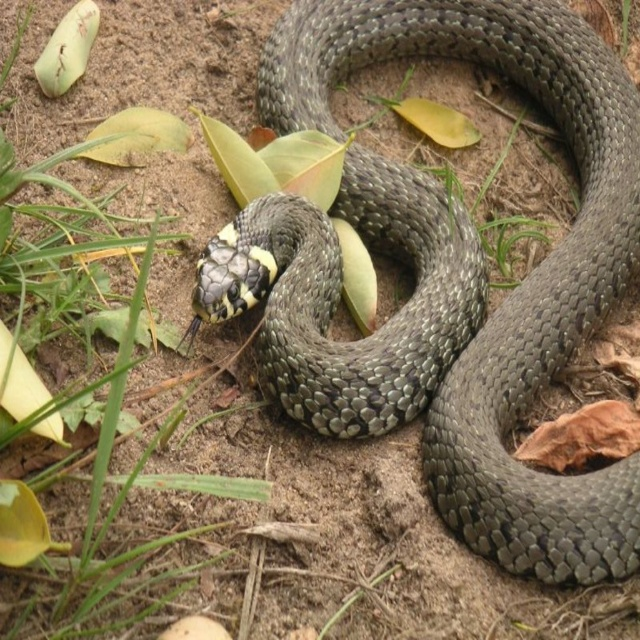Snake: (171, 0, 640, 589)
